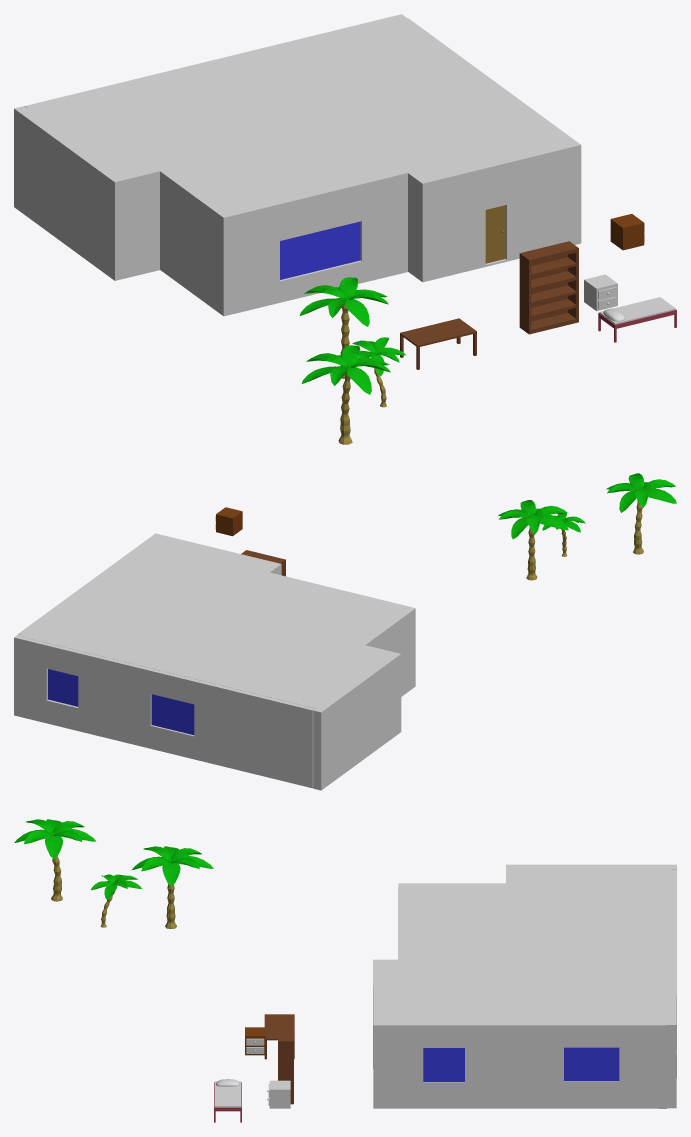
The model's file is дом эпштейна.fbx.
3 renders of one model, top to bottom at view 1: azimuth 30°, elevation 25°; view 2: azimuth 150°, elevation 25°; view 3: azimuth 270°, elevation 25°, orthographic. The views are drawn at different scales.
Visible parts, largest first — view 1: Plane.025, Cube.017, Cube.018, Cube.009, Cube.016, Cube.053, Cube.014, Cube.028, Cube.015, Cube.011, Cube.010, Cube.066 (+4 smaller); view 2: Plane.025, Cube.010, Cube.009, Cube.016, Cube.020, Cube.019, Cube.011, Cube.014, Cube.076, Cube.018, Cube.017, Cube.015; view 3: Plane.025, Cube.011, Cube.021, Cube.010, Cube.022, Cube.053, Cube.014, Cube.018, Cube.047, Cube.033, Cube.009, Cube.017 (+2 smaller).
Boxes of the visible parts, <box> form: Plane.025: <box>18,18,564,214</box>; Cube.017: <box>233,169,407,313</box>; Cube.018: <box>428,143,570,279</box>; Cube.009: <box>14,106,124,280</box>; Cube.016: <box>160,171,233,316</box>; Cube.053: <box>519,241,578,334</box>; Cube.014: <box>125,86,492,278</box>; Cube.028: <box>280,221,360,279</box>; Cube.015: <box>369,135,432,282</box>; Cube.011: <box>401,18,581,244</box>; Cube.010: <box>24,14,406,108</box>; Cube.066: <box>400,318,476,347</box>; Plane.025: <box>22,539,406,710</box>; Cube.010: <box>14,634,315,788</box>; Cube.009: <box>313,652,401,790</box>; Cube.016: <box>365,606,415,696</box>; Cube.020: <box>151,694,194,735</box>; Cube.019: <box>48,669,78,706</box>; Cube.011: <box>18,533,162,635</box>; Cube.014: <box>97,580,392,652</box>; Cube.076: <box>216,507,242,536</box>; Cube.018: <box>159,535,272,564</box>; Cube.017: <box>265,572,407,606</box>; Cube.015: <box>220,562,281,601</box>; Plane.025: <box>381,865,671,1022</box>; Cube.011: <box>373,1021,666,1108</box>; Cube.021: <box>564,1047,619,1081</box>; Cube.010: <box>667,869,676,1108</box>; Cube.022: <box>423,1048,464,1081</box>; Cube.053: <box>278,1021,293,1104</box>; Cube.014: <box>506,869,515,1020</box>; Cube.018: <box>373,963,383,1068</box>; Cube.047: <box>269,1080,290,1108</box>; Cube.033: <box>214,1081,241,1107</box>; Cube.009: <box>506,864,676,869</box>; Cube.017: <box>398,887,407,959</box>.
Size of the model in its own units: 4380 by 1343 by 6310.
